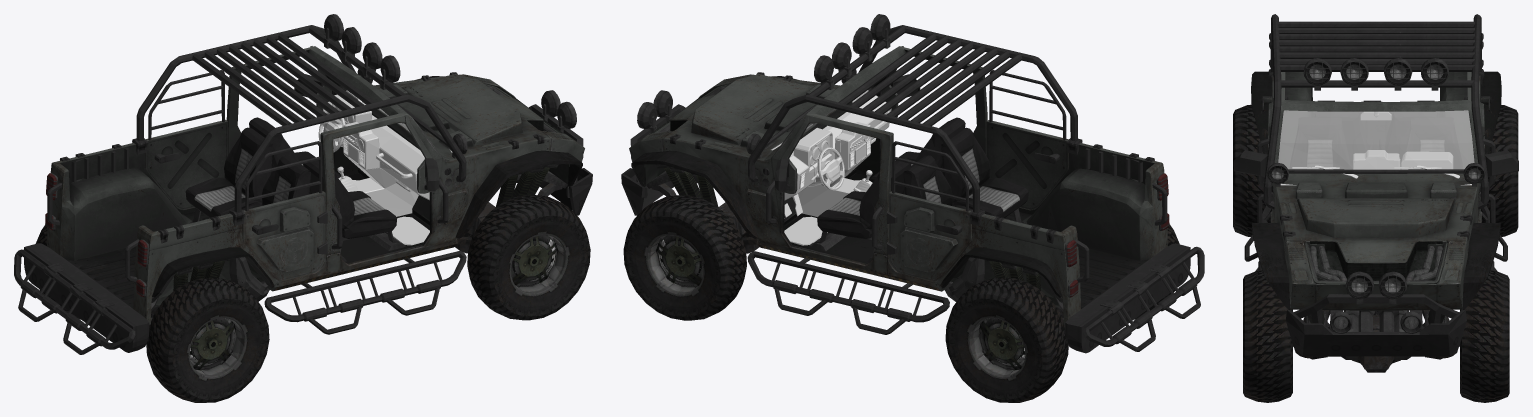
3 renders of one model, left to right at view 1: azimuth 30°, elevation 25°; view 2: azimuth 150°, elevation 25°; view 3: azimuth 270°, elevation 25°, orthographic. The views are drawn at different scales.
Bounding box in the file's own units: 2.5 × 1.24 × 1.15.
5 materials, 3 textured.
